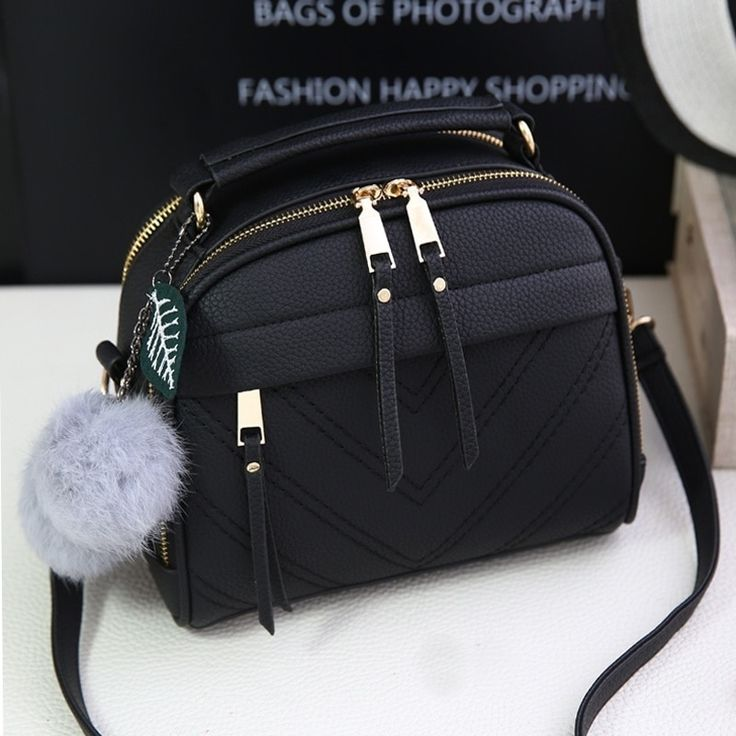cuero: (47, 96, 722, 736)
